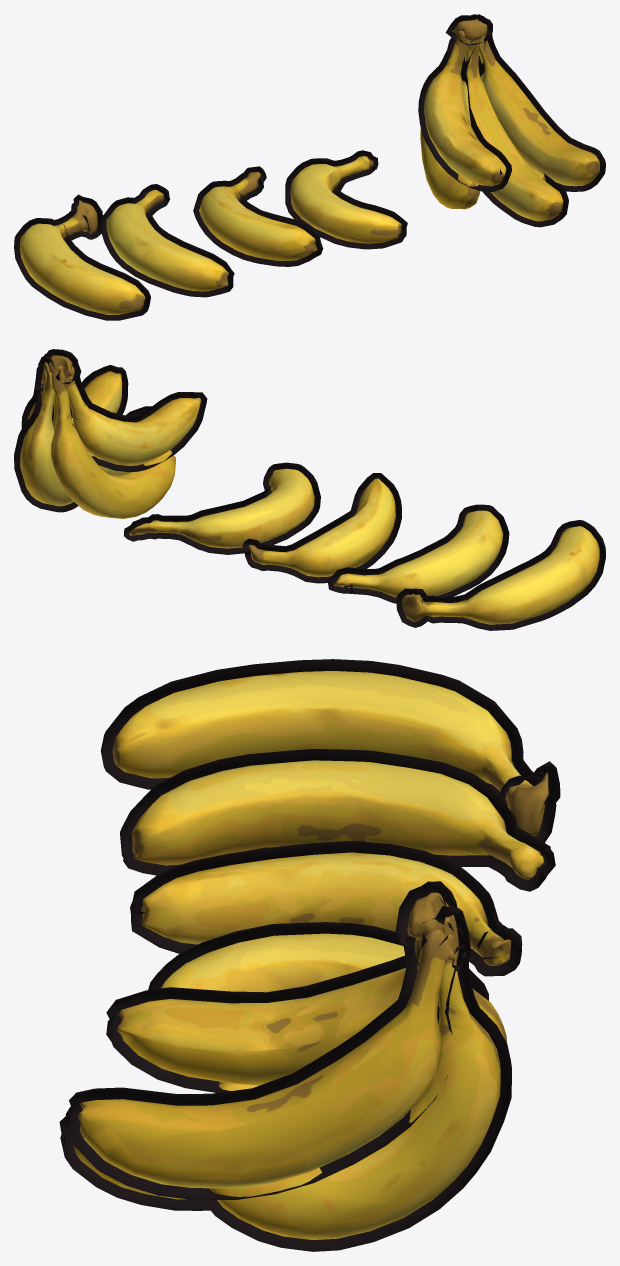
Rendered from SM_Int_Bananas.fbx.
3 views of the same model, one above another, from view 1: azimuth 30°, elevation 25°; view 2: azimuth 150°, elevation 25°; view 3: azimuth 270°, elevation 25° (orthographic). The views are drawn at different scales.
Parts seen in each view (by area): view 1: SM_Int_Bananas; view 2: SM_Int_Bananas; view 3: SM_Int_Bananas.
Part boxes in pixels (bbox=[...]): SM_Int_Bananas: bbox=[14, 14, 605, 320]; SM_Int_Bananas: bbox=[14, 349, 605, 630]; SM_Int_Bananas: bbox=[59, 659, 560, 1251].
Bounding box in the file's own units: 0.6118 × 0.1906 × 0.2557.
